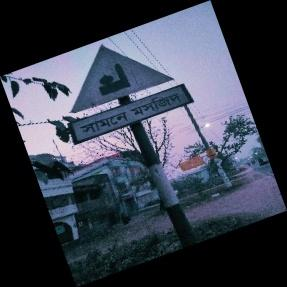Mosque in front: (68, 44, 195, 146)
